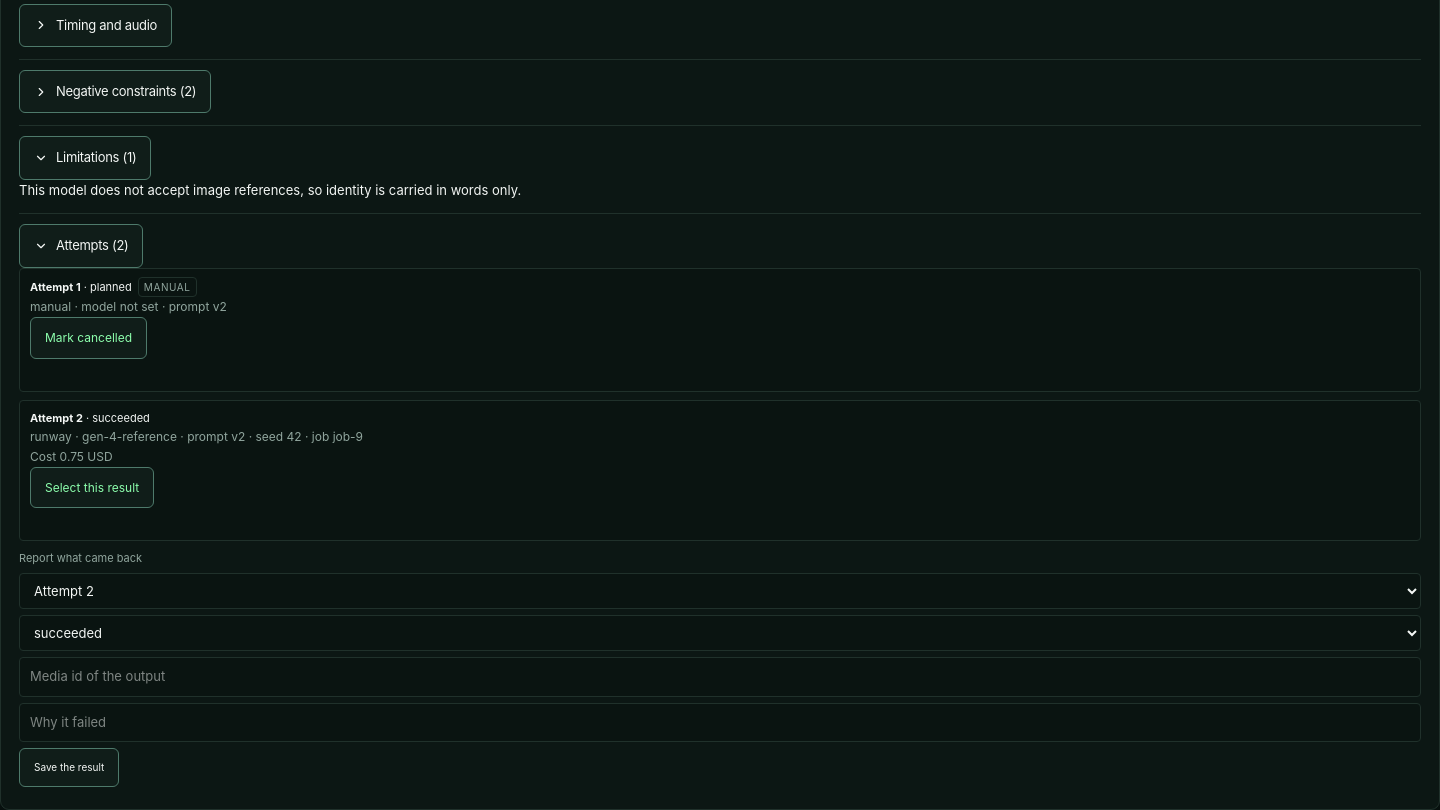
Test: AI Creation surface › selects a result on the same Shot and says selected is not approved
(page scrolled)
Click the button "Select this result": {"x": 92, "y": 487} [30,466,154,508]
(page scrolled)
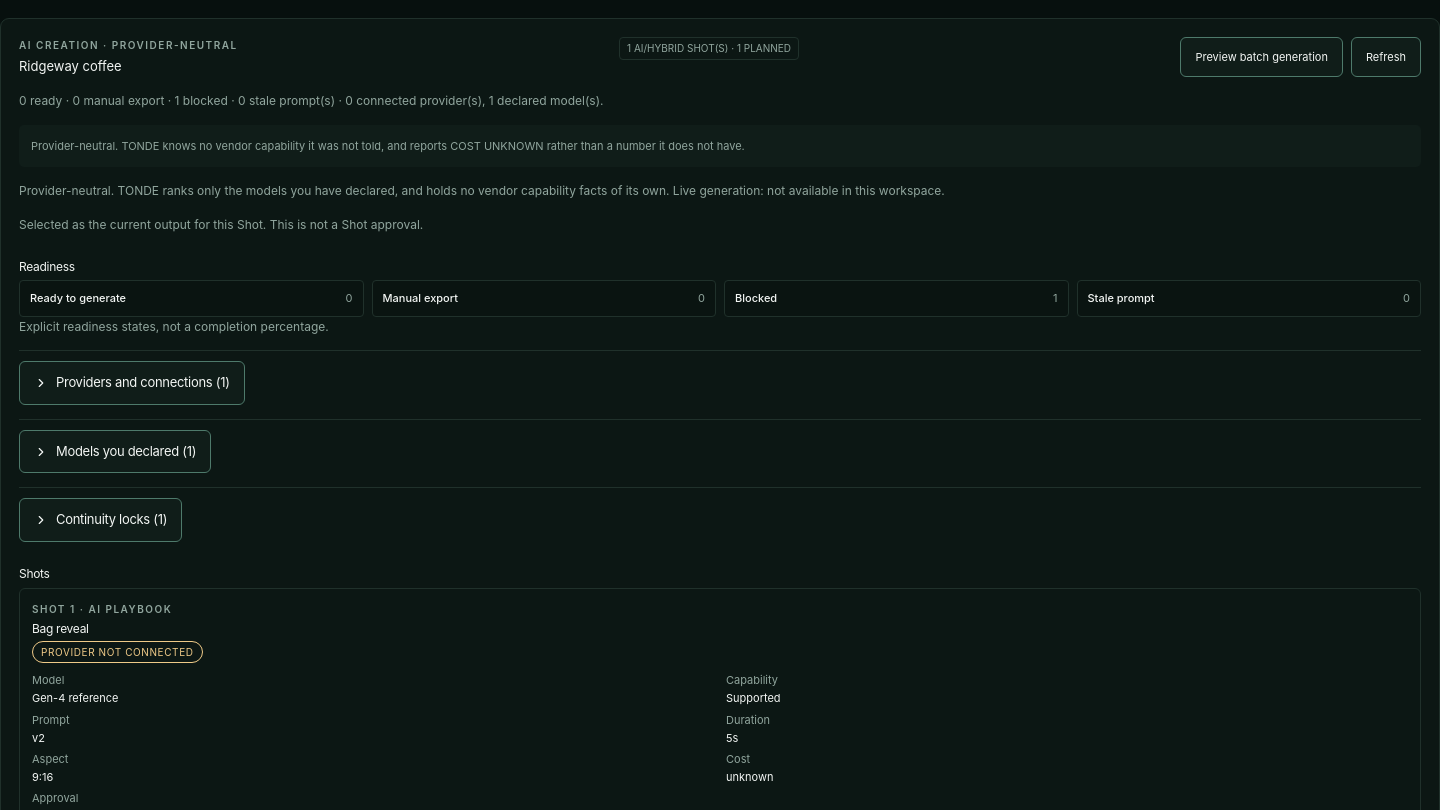
Result: the text "Selected as the current output for this Shot. This is not a Shot approval." is shown at [19,217,423,232]
